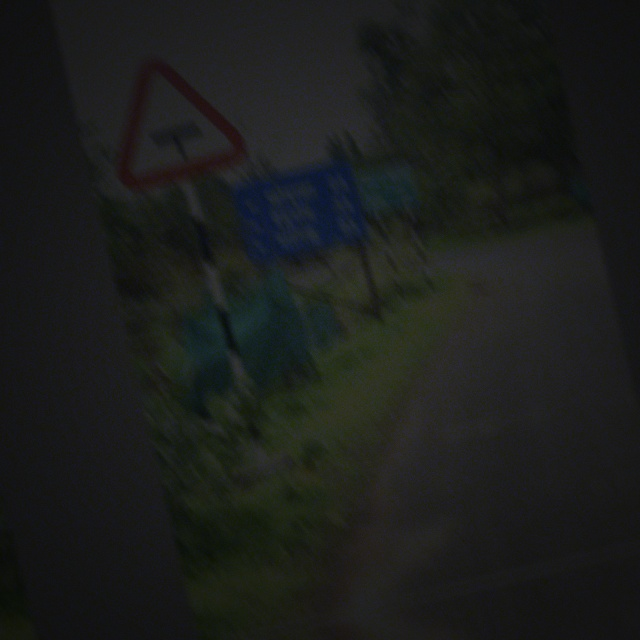T_Intersection: (90, 30, 259, 202)
